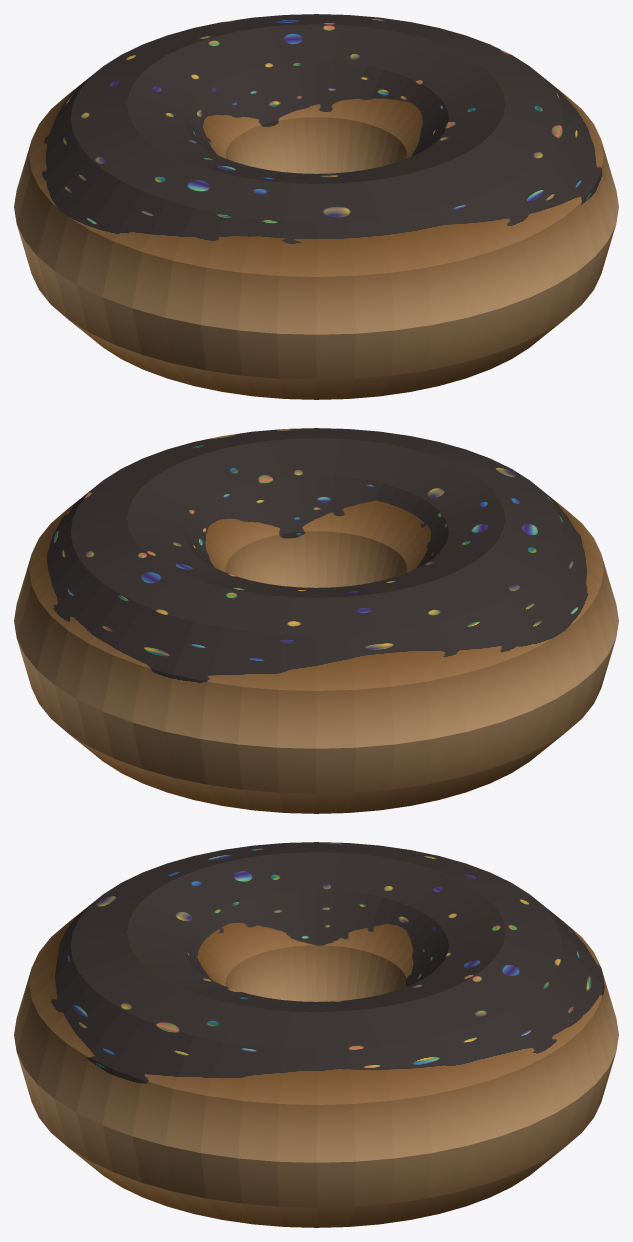
The model's file is donut.glb.
The picture shows the model from 3 angles, top to bottom: view 1: azimuth 30°, elevation 25°; view 2: azimuth 150°, elevation 25°; view 3: azimuth 270°, elevation 25°; orthographic projection.
Parts seen in each view (by area): view 1: Torus; view 2: Torus; view 3: Torus.
Boxes of the visible parts, x1,y1,x2,y2 form: Torus: (14,14,618,399); Torus: (14,428,618,813); Torus: (14,842,618,1227).
Bounding box in the file's own units: 3.2 × 1.2 × 3.2.
1 material, 1 textured.
